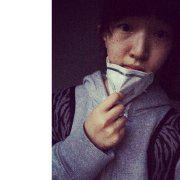WRONG: (105, 18, 177, 90)
